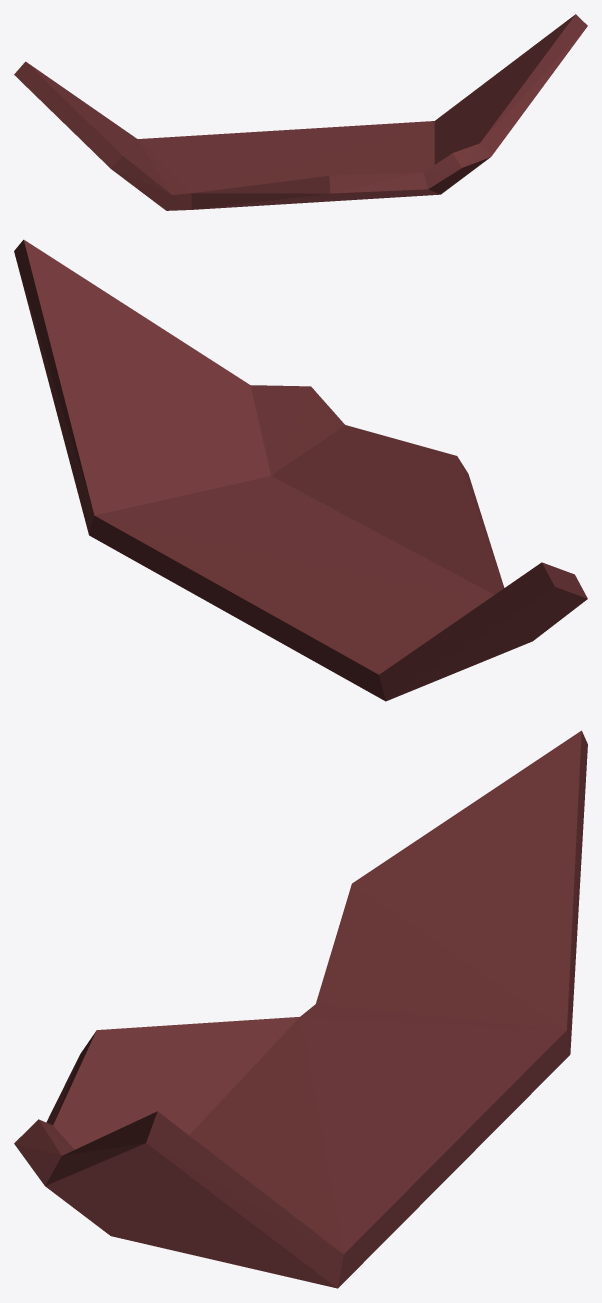
The model's file is Bowl_Scrap_1 Asia.fbx.
3 renders of one model, top to bottom at view 1: azimuth 30°, elevation 25°; view 2: azimuth 150°, elevation 25°; view 3: azimuth 270°, elevation 25°, orthographic. The views are drawn at different scales.
Parts seen in each view (by area): view 1: Bowl_Scrap_1; view 2: Bowl_Scrap_1; view 3: Bowl_Scrap_1.
Boxes of the visible parts, <box> form: Bowl_Scrap_1: <box>14,14,587,210</box>; Bowl_Scrap_1: <box>14,239,587,701</box>; Bowl_Scrap_1: <box>14,730,587,1288</box>.
Bounding box in the file's own units: 0.1627 × 0.0464 × 0.0903.
